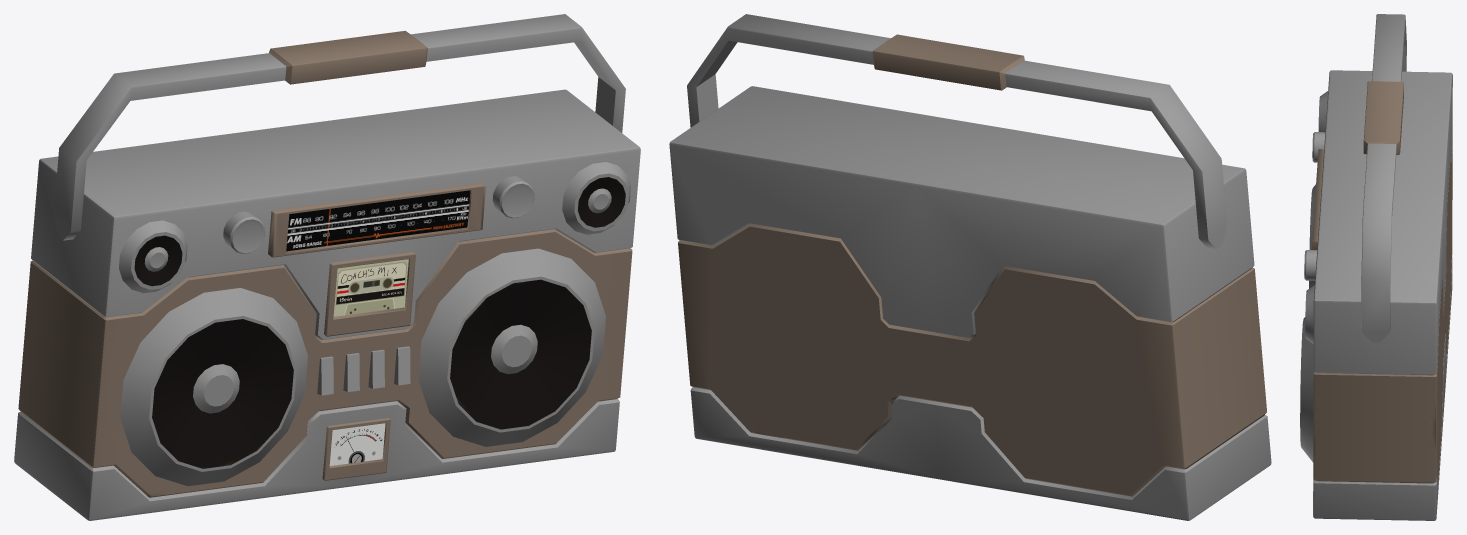
Rendered from boombox.glb.
3 views of the same model, side by side, from view 1: azimuth 30°, elevation 25°; view 2: azimuth 150°, elevation 25°; view 3: azimuth 270°, elevation 25° (orthographic). The views are drawn at different scales.
Parts seen in each view (by area): view 1: Boombox_fbx; view 2: Boombox_fbx; view 3: Boombox_fbx.
Part boxes in pixels (x1,y1,x2,y2): Boombox_fbx: (14,14,640,520); Boombox_fbx: (669,14,1271,520); Boombox_fbx: (1300,14,1452,520).
Size of the model in its own units: 2.79 by 2.12 by 0.8615.
Materials: 1 (1 with a texture image).
